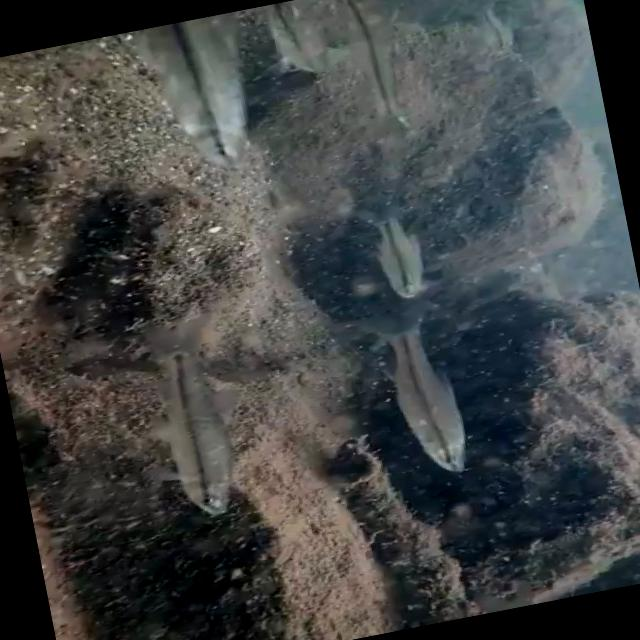Cakil Baligi: (124, 306, 260, 526), (362, 299, 486, 495), (351, 188, 438, 305)
